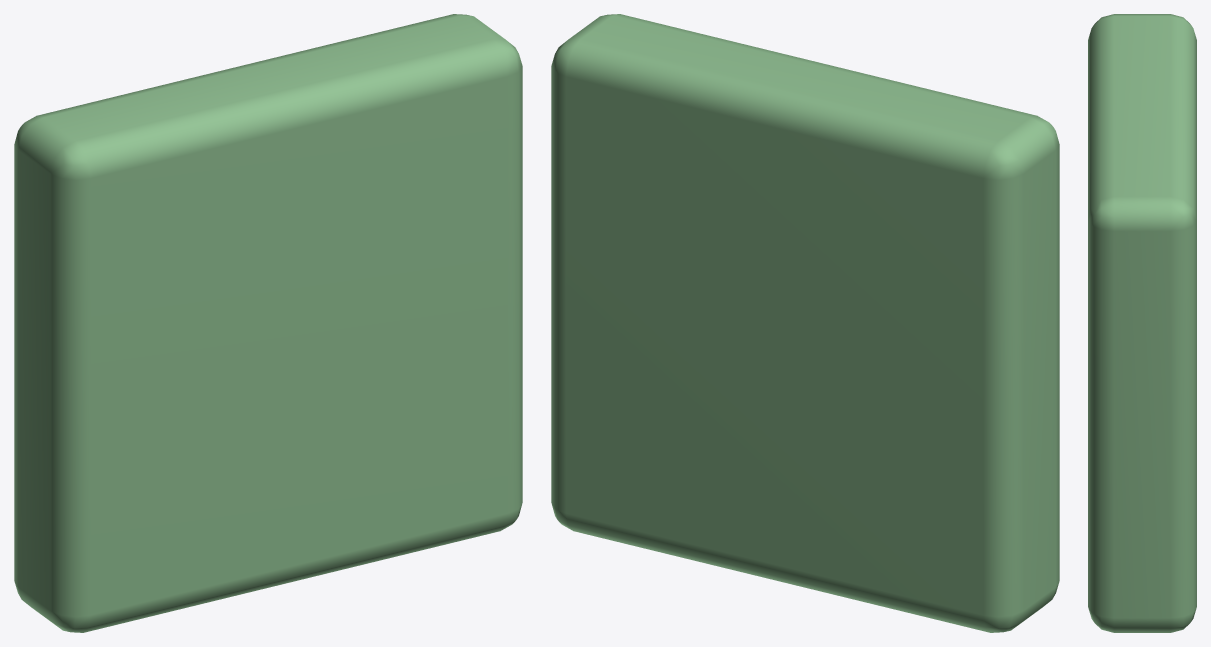
File: shape-square-green.glb
The picture shows the model from 3 angles, left to right: view 1: azimuth 30°, elevation 25°; view 2: azimuth 150°, elevation 25°; view 3: azimuth 270°, elevation 25°; orthographic projection. The views are drawn at different scales.
Parts seen in each view (by area): view 1: solid square; view 2: solid square; view 3: solid square.
Part boxes in pixels (x1,y1,x2,y2): solid square: (14,14,522,632); solid square: (551,14,1059,632); solid square: (1088,14,1196,632).
Size of the model in its own units: 1.1 by 1.1 by 0.25.
